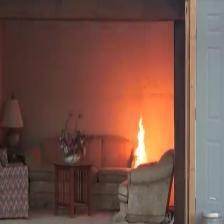fire: (127, 111, 158, 164)
